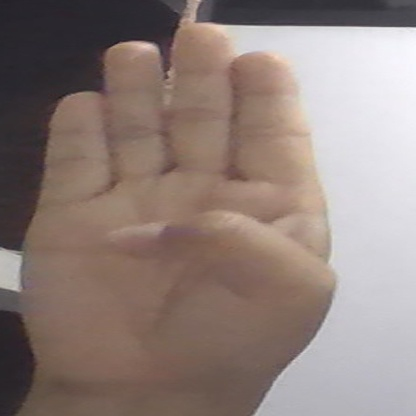B: (20, 24, 335, 410)
